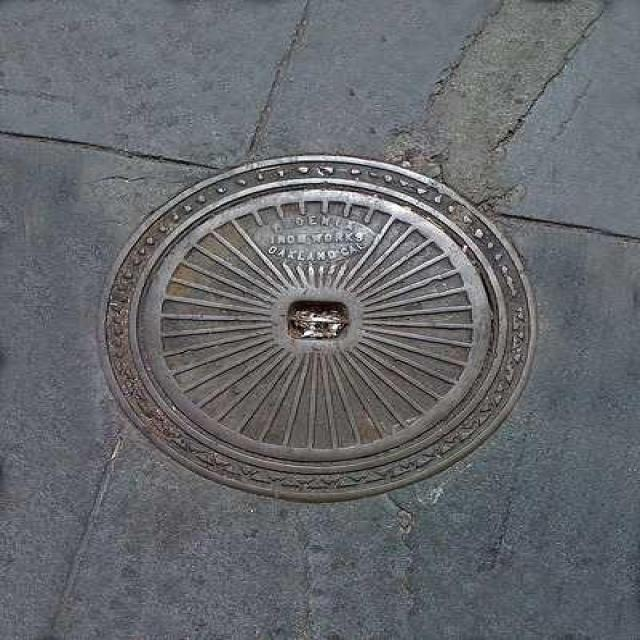manhole: (103, 155, 534, 501)
